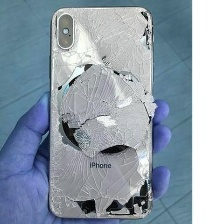phone: (43, 3, 155, 223)
